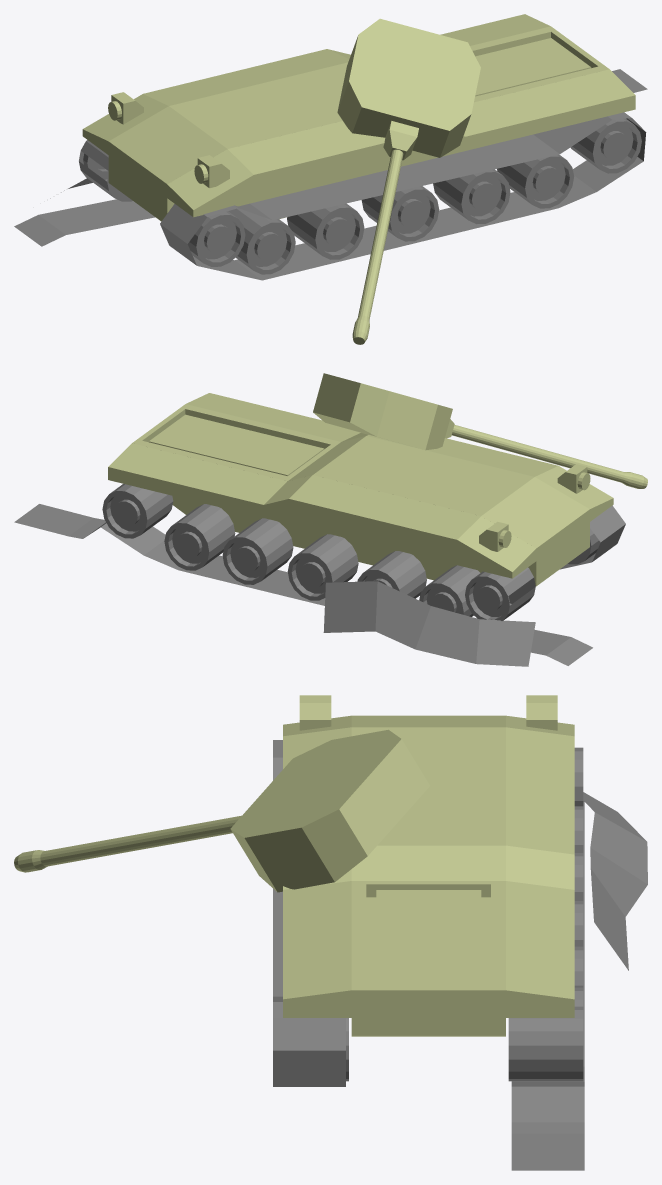
File: tankTOG2Destroyed.glb
3 renders of one model, top to bottom at view 1: azimuth 30°, elevation 25°; view 2: azimuth 150°, elevation 25°; view 3: azimuth 270°, elevation 25°, orthographic. The views are drawn at different scales.
Visible parts, largest first — view 1: Cube.003, Plane.001, Cube.004, Cube.005; view 2: Cube.003, Plane.001, Cube.004, Cube.005; view 3: Cube.003, Plane.001, Cube.004, Cube.005.
Boxes of the visible parts, box(x1,y1,x2,y2) form: Cube.003: box(82, 14, 635, 221); Plane.001: box(14, 69, 647, 280); Cube.004: box(337, 18, 480, 157); Cube.005: box(352, 121, 418, 344); Cube.003: box(108, 393, 613, 586); Plane.001: box(14, 484, 625, 666); Cube.004: box(313, 373, 452, 450); Cube.005: box(445, 419, 647, 488); Cube.003: box(283, 695, 574, 1036); Plane.001: box(273, 740, 647, 1170); Cube.004: box(230, 729, 429, 892); Cube.005: box(14, 815, 241, 872).
Bounding box in the file's own units: 21.05 × 6.6 × 14.48.
